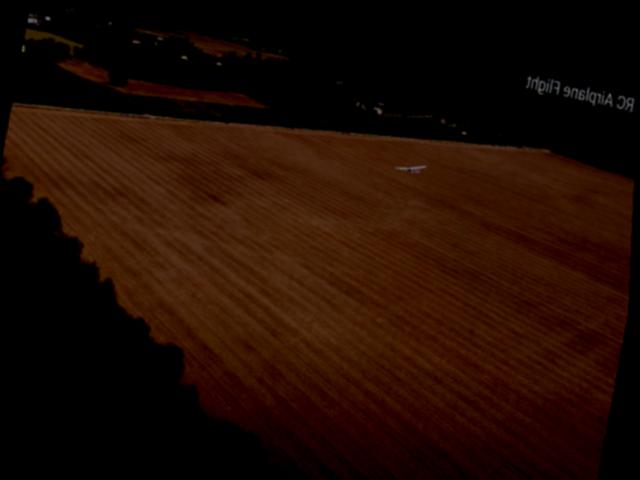plane: (394, 155, 427, 171)
